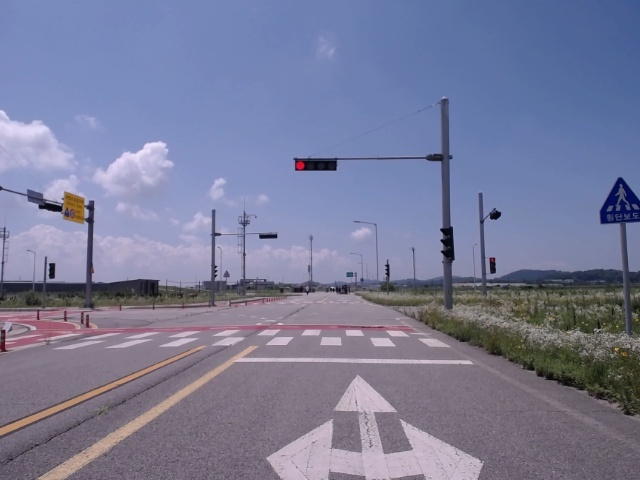red_4: (295, 160, 337, 171)
